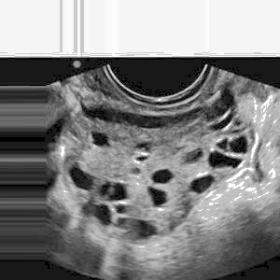PCOS: (125, 219, 155, 239), (48, 114, 64, 146), (210, 150, 238, 168), (92, 128, 116, 148), (74, 168, 90, 196), (105, 182, 124, 204), (152, 168, 180, 182), (148, 187, 168, 206), (192, 176, 210, 197), (93, 205, 109, 227), (115, 197, 130, 220), (136, 138, 152, 154), (230, 138, 246, 153), (184, 149, 202, 161), (221, 136, 228, 152), (135, 156, 148, 164), (234, 118, 243, 126)
